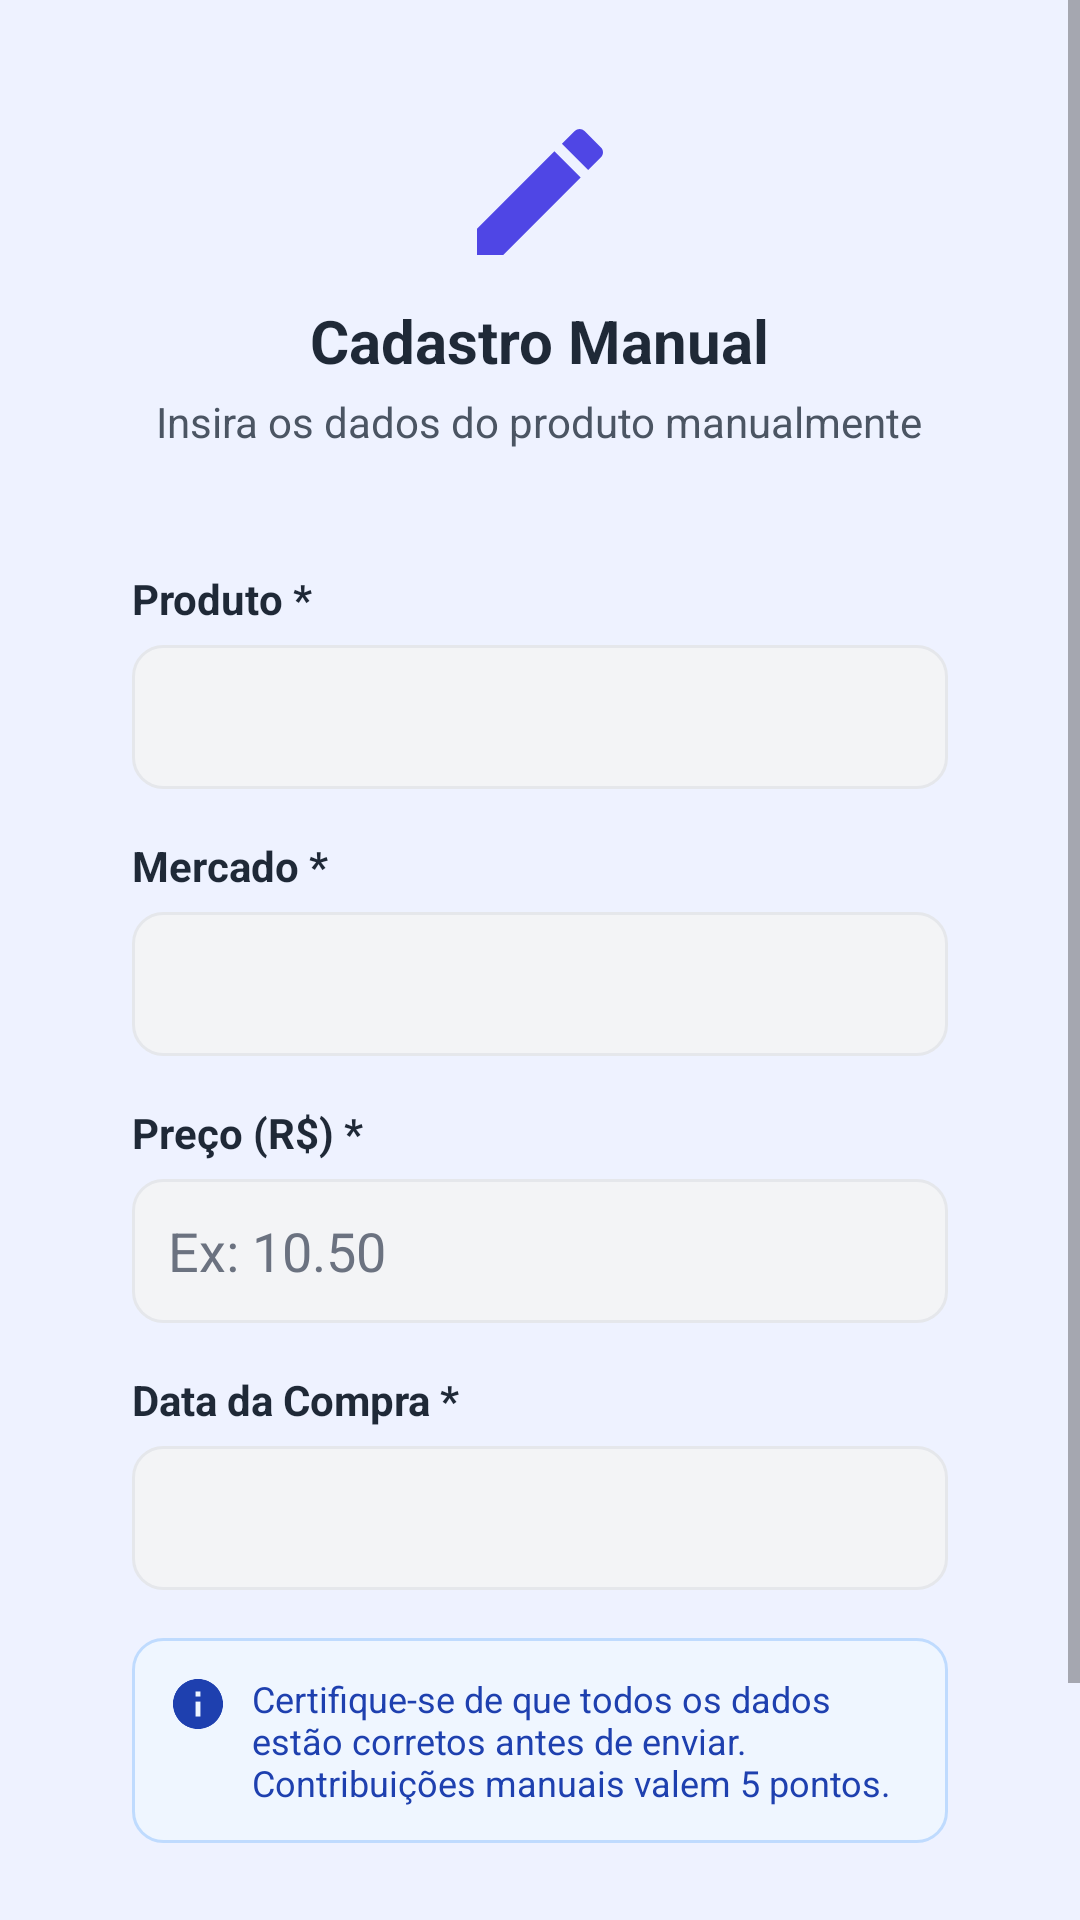

Icon bounding boxes for this 1080px×1920px phone screenshot, format bbox=[x1, y1, x2, y2]:
edit: bbox=[477, 129, 603, 255]
info: bbox=[173, 1679, 223, 1729]
